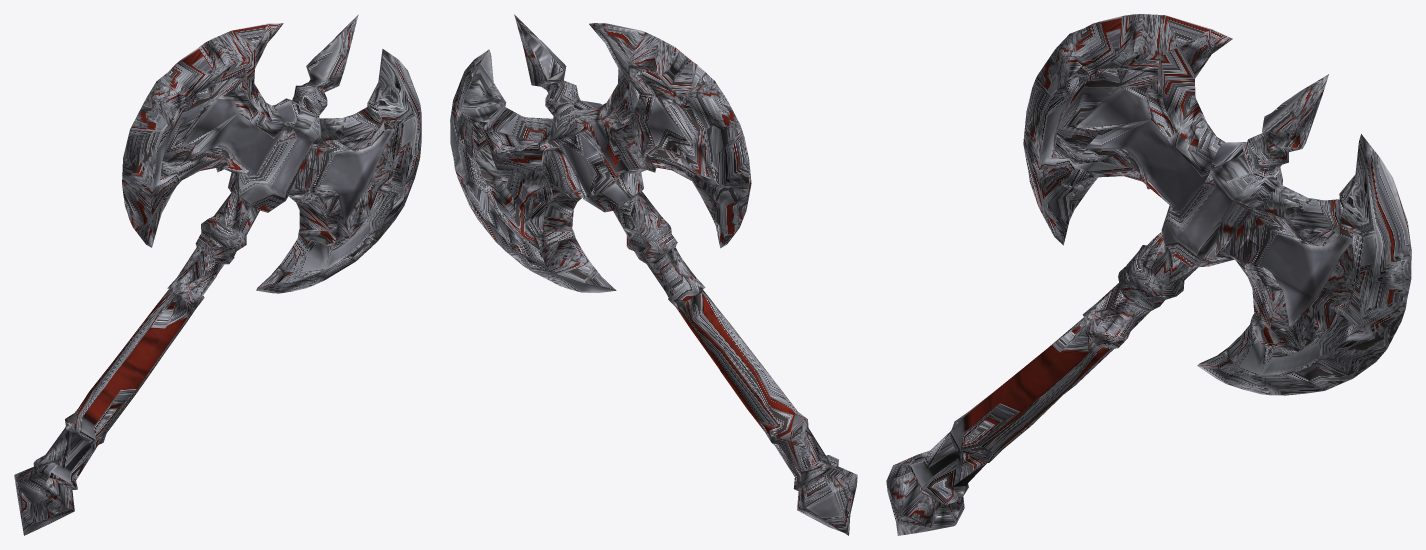
File: w_twin_moon_battle_axe.glb
3 renders of one model, left to right at view 1: azimuth 30°, elevation 25°; view 2: azimuth 150°, elevation 25°; view 3: azimuth 330°, elevation 25°, orthographic. The views are drawn at different scales.
Bounding box in the file's own units: 0.9255 × 1 × 0.1585.
Materials: 1 (1 with a texture image).
